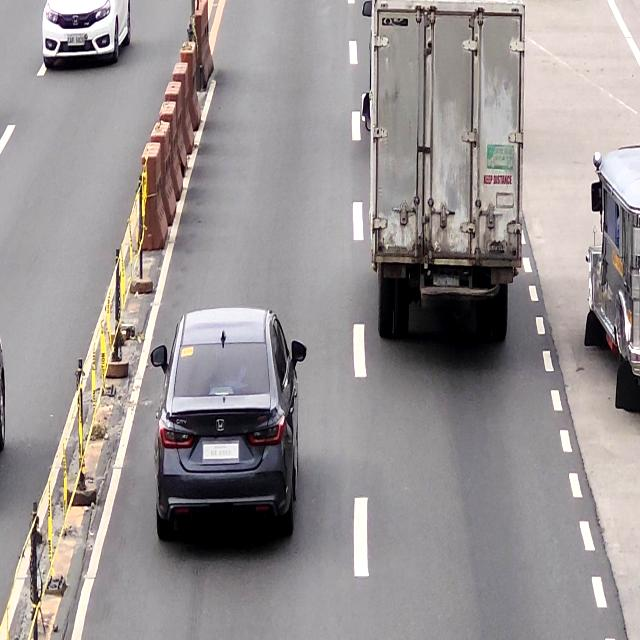Car: (150, 309, 308, 541)
Jeep: (585, 145, 640, 412)
License-Plate: (203, 441, 240, 464), (434, 271, 459, 288)
Truck: (362, 0, 526, 347)
